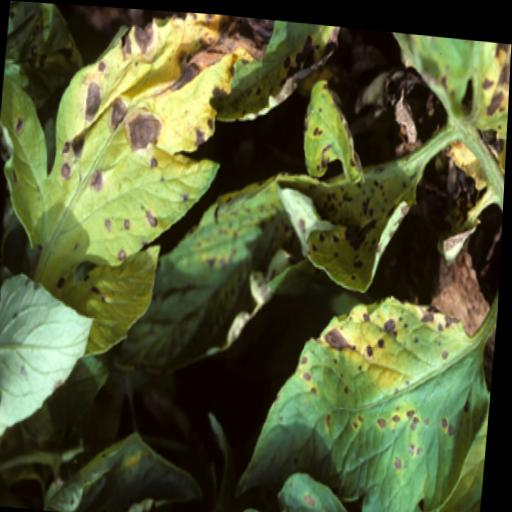Septoria: (109, 54, 428, 394), (0, 0, 268, 305), (242, 273, 498, 512)
